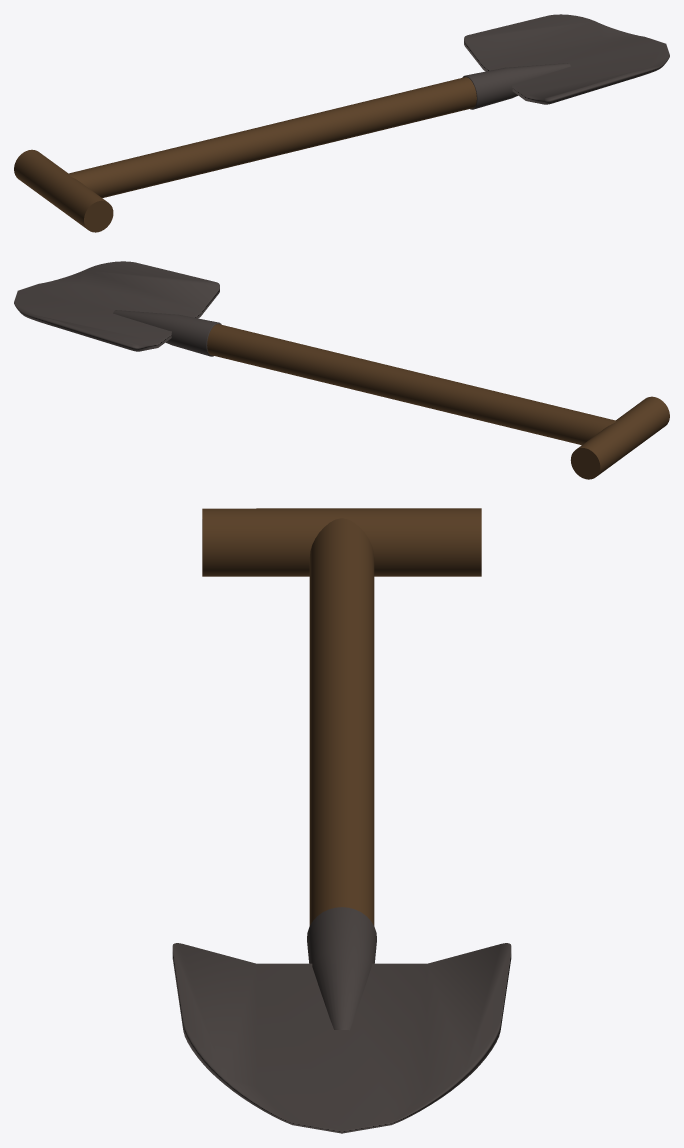
Rendered from sukoppu.fbx.
The picture shows the model from 3 angles, top to bottom: view 1: azimuth 30°, elevation 25°; view 2: azimuth 150°, elevation 25°; view 3: azimuth 270°, elevation 25°; orthographic projection. The views are drawn at different scales.
Parts seen in each view (by area): view 1: 円柱, 立方体, 円柱.001, 円柱.002; view 2: 円柱, 立方体, 円柱.001, 円柱.002; view 3: 立方体, 円柱, 円柱.001, 円柱.002.
Part boxes in pixels (box(x1,y1,x2,y2)): 円柱: box(68, 77, 476, 197); 立方体: box(464, 14, 669, 104); 円柱.001: box(14, 149, 113, 232); 円柱.002: box(462, 63, 570, 109); 円柱: box(207, 324, 616, 445); 立方体: box(14, 261, 219, 351); 円柱.001: box(570, 396, 669, 479); 円柱.002: box(113, 310, 221, 356); 立方体: box(172, 943, 511, 1133); 円柱: box(309, 518, 374, 925); 円柱.001: box(202, 508, 481, 576); 円柱.002: box(307, 907, 376, 1030).
Bounding box in the file's own units: 723 × 39.12 × 172.
